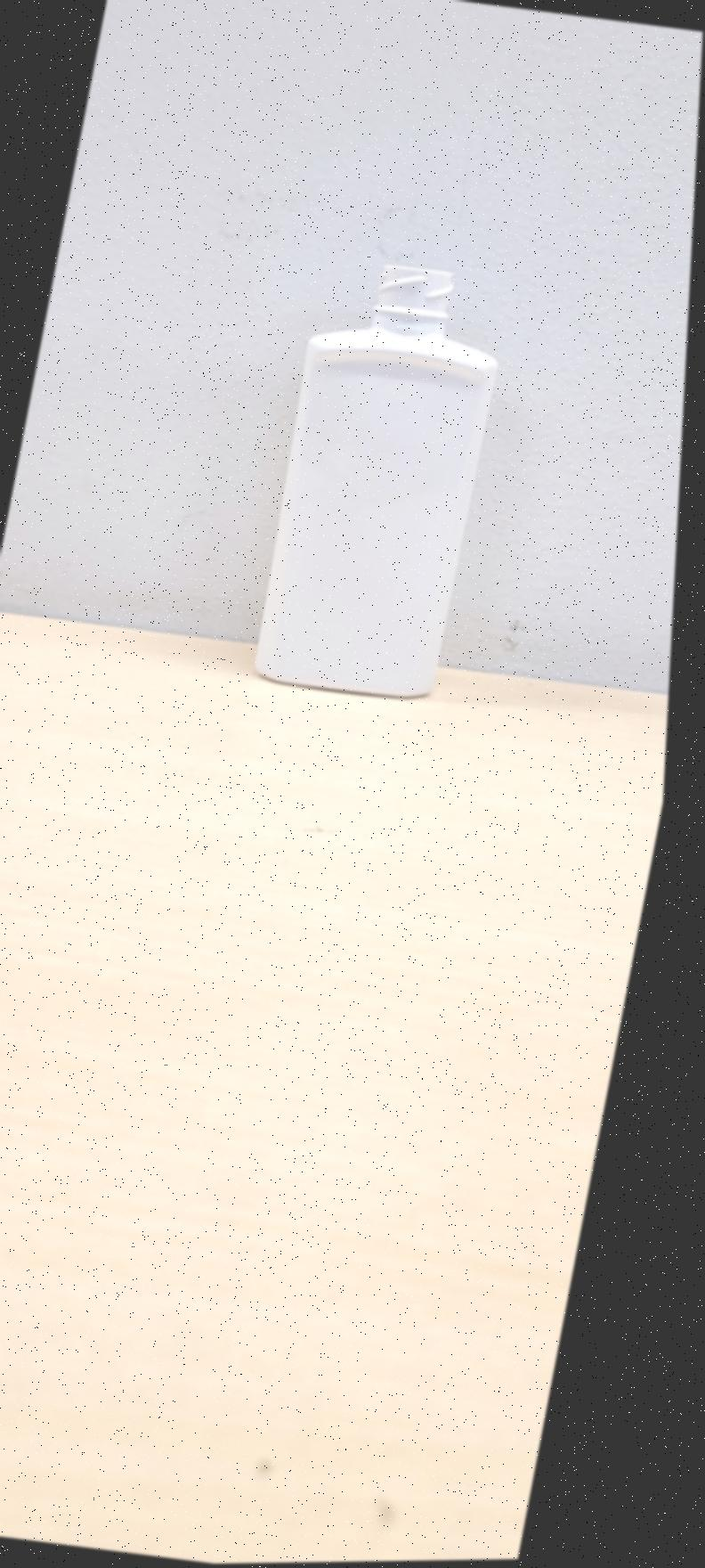bottle: (255, 261, 496, 697)
